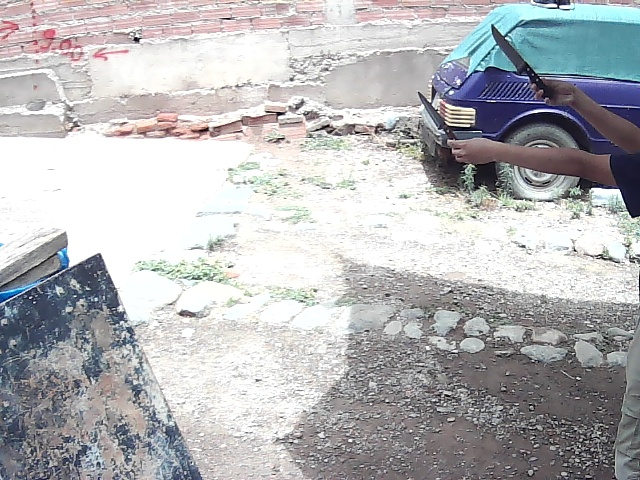cuchillo: (487, 18, 542, 81), (415, 91, 458, 141)
